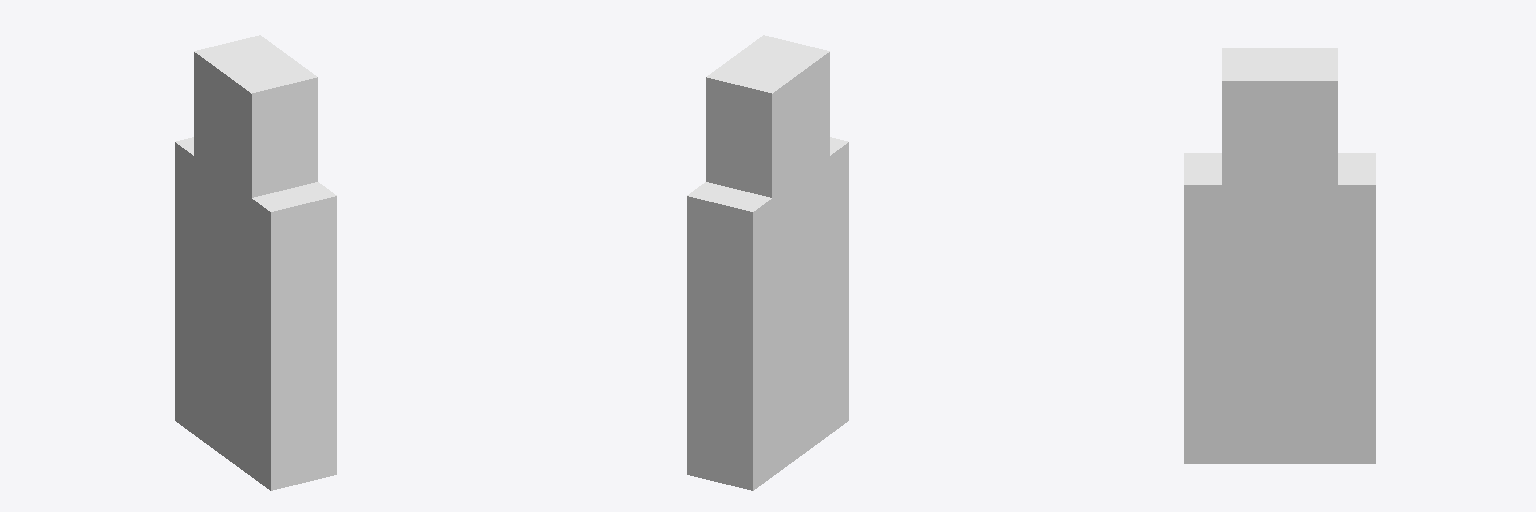
The model's file is guy3body.obj.
The picture shows the model from 3 angles: view 1: azimuth 30°, elevation 25°; view 2: azimuth 150°, elevation 25°; view 3: azimuth 270°, elevation 25°; orthographic projection.
Parts seen in each view (by area): view 1: guy3body; view 2: guy3body; view 3: guy3body.
Boxes of the visible parts, <box> form: guy3body: <box>175,35,336,490</box>; guy3body: <box>687,35,848,490</box>; guy3body: <box>1184,48,1375,463</box>.
Size of the model in its own units: 4 by 22 by 10.